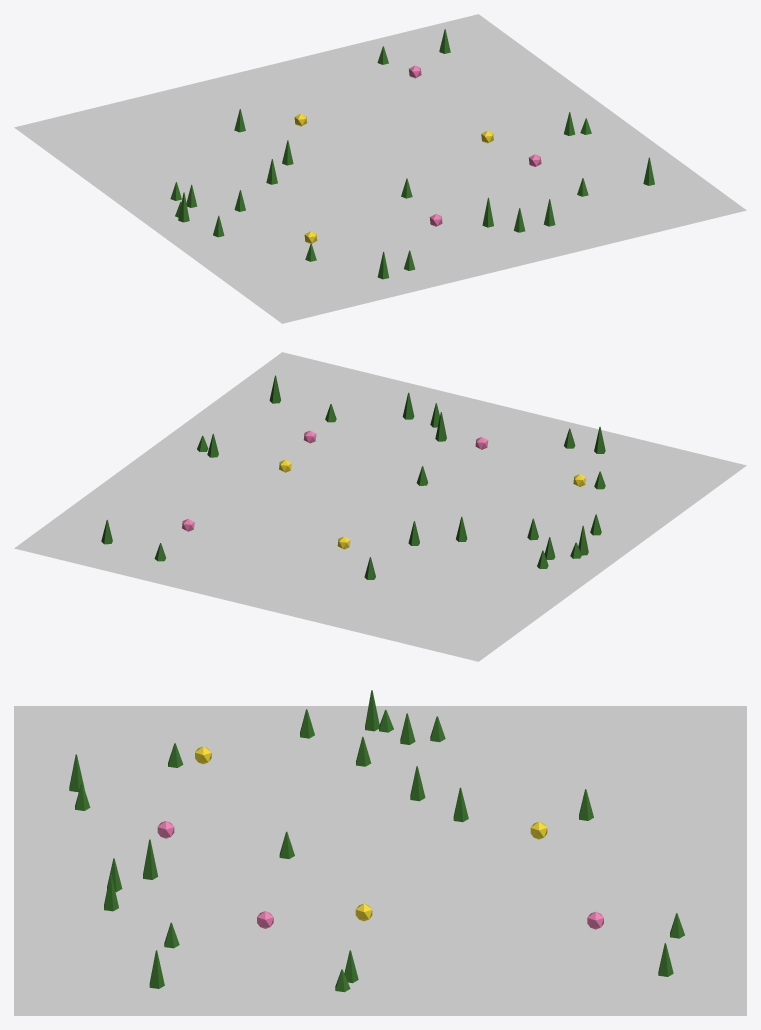
The model's file is grass.glb.
3 renders of one model, top to bottom at view 1: azimuth 30°, elevation 25°; view 2: azimuth 150°, elevation 25°; view 3: azimuth 270°, elevation 25°, orthographic. The views are drawn at different scales.
Visible parts, largest first — view 1: GRASS; view 2: GRASS; view 3: GRASS.
Part boxes in pixels (x1,y1,x2,y2): GRASS: (14,14,746,323); GRASS: (14,352,746,661); GRASS: (14,706,746,1015).
Size of the model in its own units: 1.04 by 0.0589 by 1.04.
